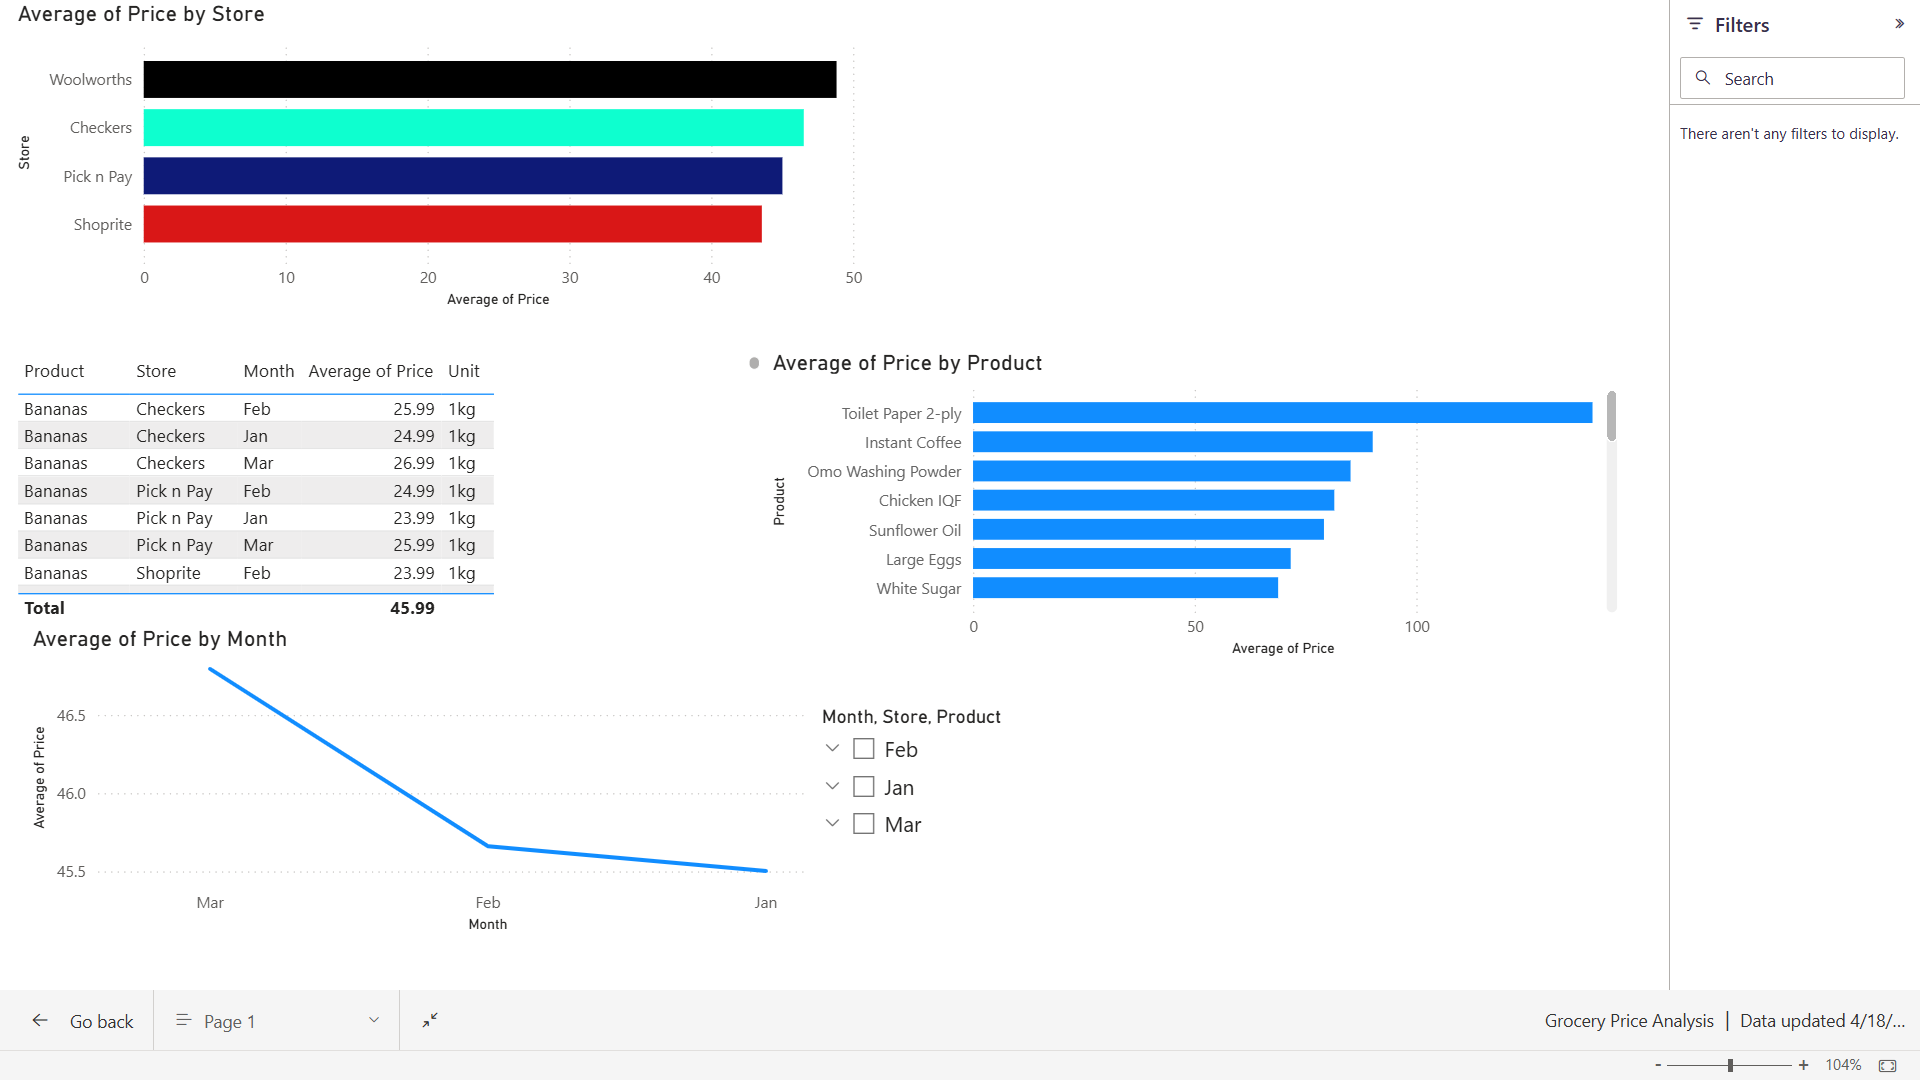

Layout of this report page (visuals, bound fields, positions):
{"tool":"powerbi","page":{"name":"Page 1","canvas":[1280,720],"ordinal":0},"visuals":[{"type":"lineChart","fields":{"Category":["Prices.Month"],"Y":["Avg(Prices.Price)"]},"box":[20.5,479.5,657.8,241],"z":1},{"type":"clusteredBarChart","fields":{"Category":["Prices.Store"],"Y":["Avg(Prices.Price)"]},"box":[8.4,0,657.8,241],"z":2},{"type":"clusteredBarChart","fields":{"Category":["Prices.Product"],"Y":["Avg(Prices.Price)"]},"box":[587.8,267.8,657.8,241.1],"z":3},{"type":"slicer","fields":{"Values":["Prices.Month","Prices.Store","Prices.Product"]},"box":[617.8,535.6,597.8,184.4],"z":4},{"type":"tableEx","fields":{"Values":["Prices.Product","Prices.Store","Prices.Month","Avg(Prices.Price)","Prices.Unit"]},"box":[8,268,580,212],"z":5}]}

Visuals, with their boxes on the page's 1280x720 design canvas (x1, y1, x2, y2). These are canvas units, not pixel positions in the 1920x1080 screenshot, which may show the page scaled, cropped or inside an application window:
lineChart - Prices.Month x Avg(Prices.Price): rect(20, 480, 678, 720)
clusteredBarChart - Prices.Store x Avg(Prices.Price): rect(8, 0, 666, 241)
clusteredBarChart - Prices.Product x Avg(Prices.Price): rect(588, 268, 1246, 509)
slicer - Prices.Month x Prices.Store: rect(618, 536, 1216, 720)
tableEx - Prices.Product x Prices.Store: rect(8, 268, 588, 480)
